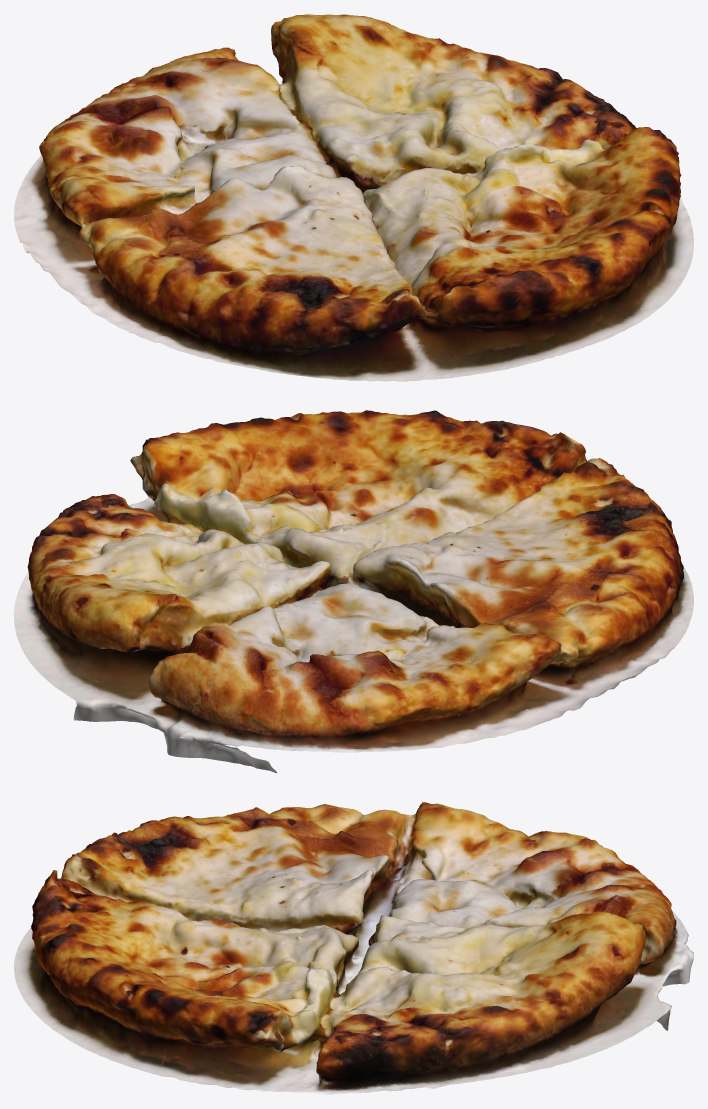
The model's file is cheese.glb.
The picture shows the model from 3 angles, top to bottom: view 1: azimuth 30°, elevation 25°; view 2: azimuth 150°, elevation 25°; view 3: azimuth 270°, elevation 25°; orthographic projection. The views are drawn at different scales.
Visible parts, largest first — view 1: 3Ddata; view 2: 3Ddata; view 3: 3Ddata.
Part boxes in pixels (<box>): 3Ddata: <box>14,14,693,381</box>; 3Ddata: <box>14,410,693,773</box>; 3Ddata: <box>14,802,693,1094</box>.
Size of the model in its own units: 0.2396 by 0.042 by 0.2596.
1 material, 1 textured.
